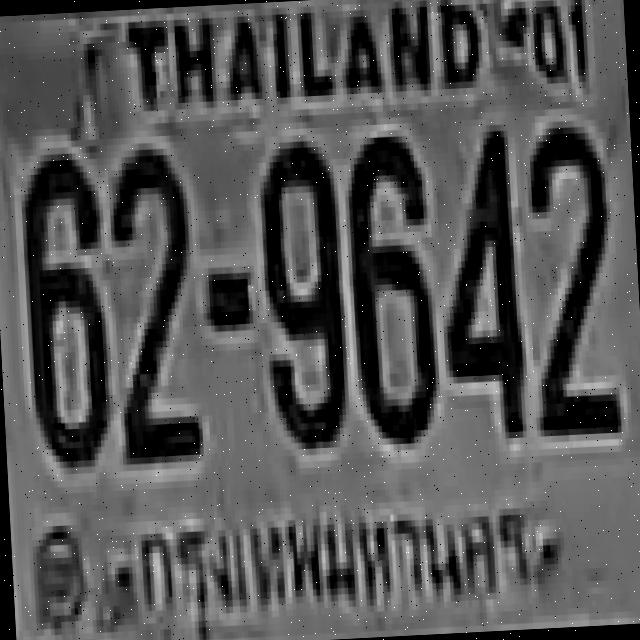2: (522, 114, 616, 430), (106, 142, 196, 458)
4: (433, 118, 523, 435)
6: (342, 129, 435, 440), (19, 146, 109, 463)
9: (255, 133, 348, 444)
Bangkok: (125, 480, 547, 640)
